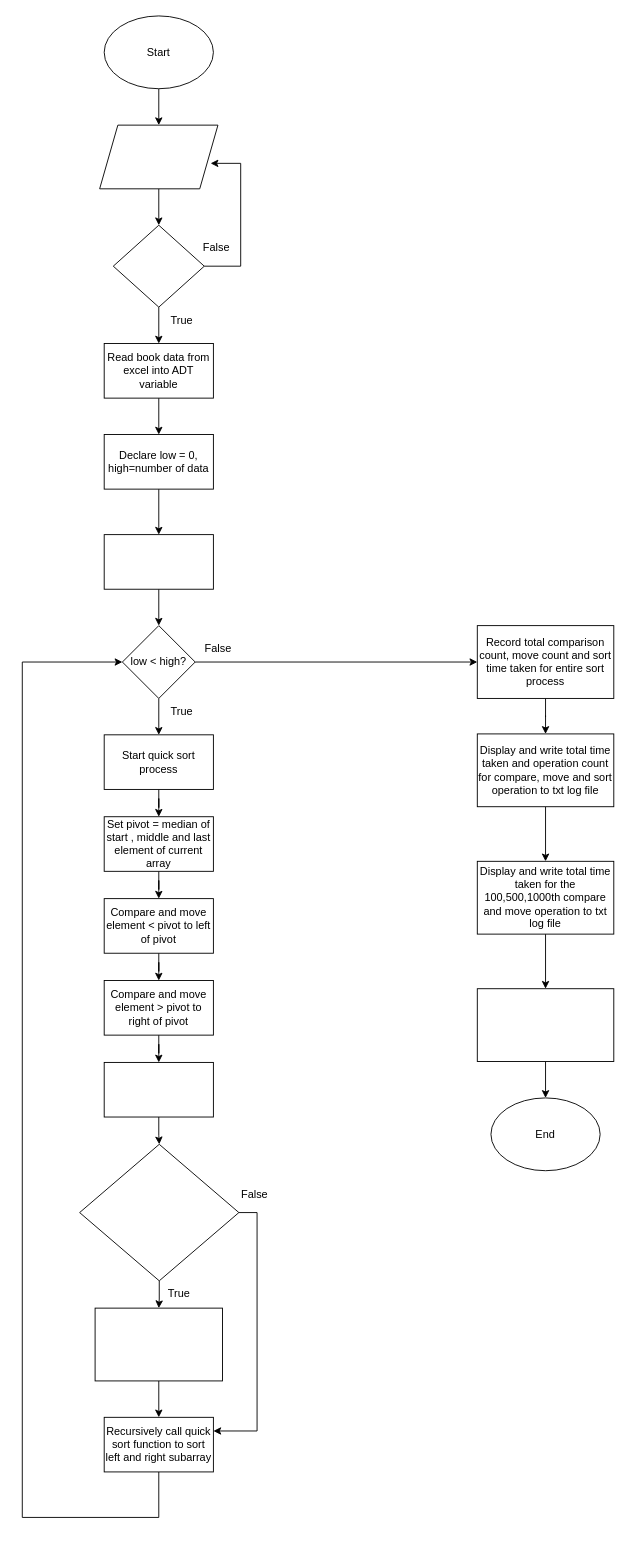
The diagram is 630 pixels wide and 1541 high, and some of its shapes have lost their labels. The centre of each missing label's shape, as x and y in pixels:
"Current compare/move operation is 100,500,1000?" belongs at (159,1212).
"Do increment on compare and move counter based on operation count" belongs at (158,1089).
"Initialize variable to count compare & move/swap operation" belongs at (158,561).
"Input which file to import data" belongs at (158,156).
"Is option valid?" belongs at (158,265).
"Record the time taken 100,500,1000th move and compare operation" belongs at (158,1344).
"Write the sorted book data to text file" belongs at (545,1025).
